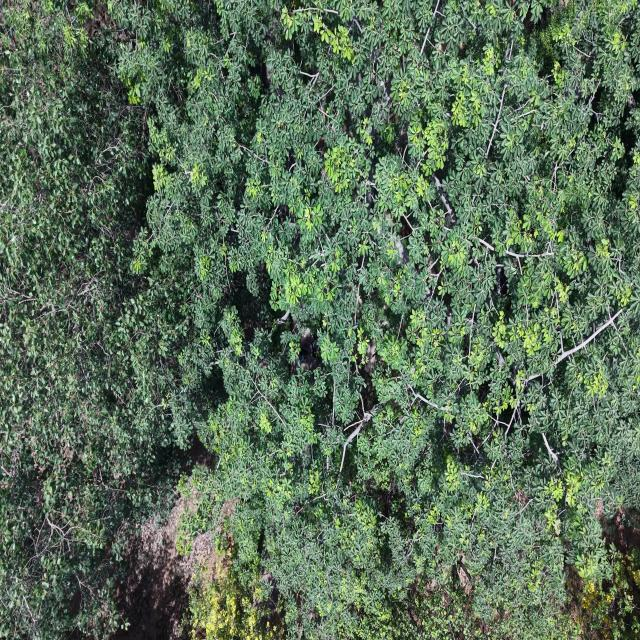VEGETATION_TREE: (0, 0, 639, 639), (0, 2, 190, 638)
